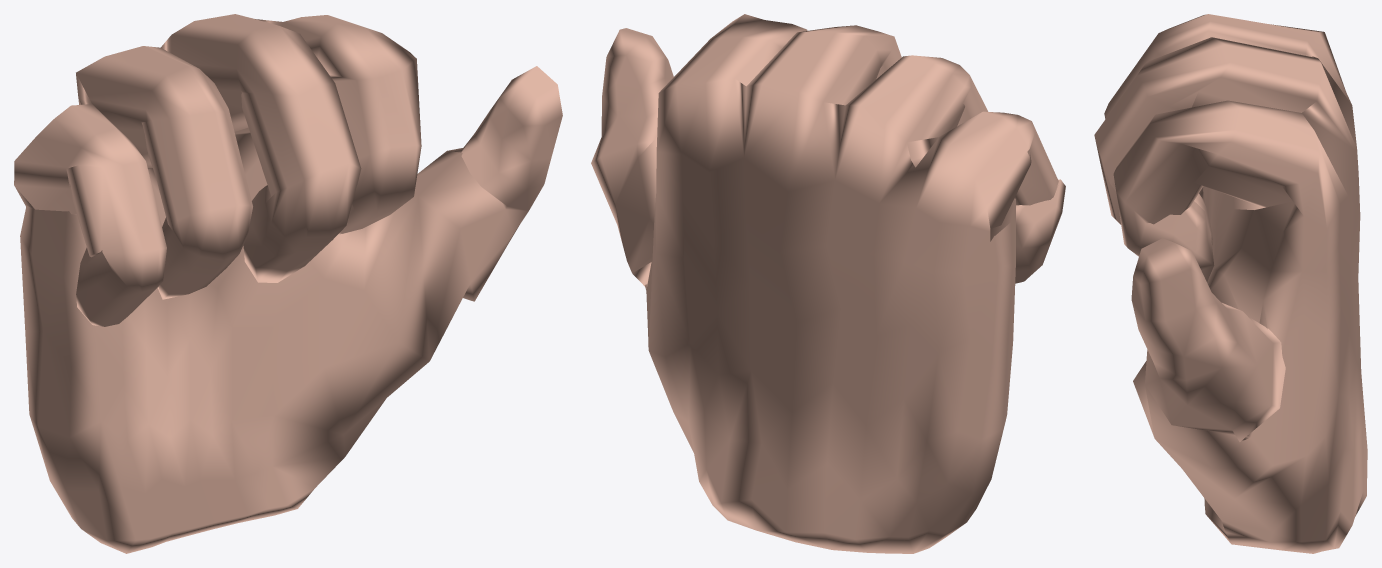
The model's file is MAO_ONZE_APERTA.obj.
The picture shows the model from 3 angles, left to right: view 1: azimuth 30°, elevation 25°; view 2: azimuth 150°, elevation 25°; view 3: azimuth 270°, elevation 25°; orthographic projection. The views are drawn at different scales.
Visible parts, largest first — view 1: mao_dir:mao_dir; view 2: mao_dir:mao_dir; view 3: mao_dir:mao_dir.
Part boxes in pixels (x1,y1,x2,y2): mao_dir:mao_dir: (14,14,562,553); mao_dir:mao_dir: (591,14,1065,553); mao_dir:mao_dir: (1094,14,1367,553).
Size of the model in its own units: 157 by 155 by 80.27.
